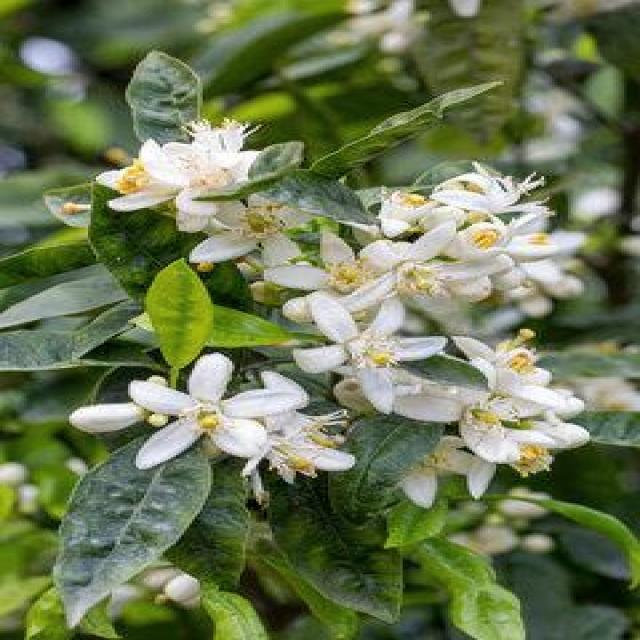Bunga: (128, 350, 283, 464), (290, 308, 440, 402), (389, 377, 542, 459), (189, 185, 312, 274), (266, 228, 389, 304), (352, 231, 459, 315), (453, 331, 563, 402), (90, 137, 182, 217), (427, 167, 552, 222), (384, 436, 482, 504), (152, 122, 256, 182), (235, 422, 342, 478), (488, 425, 568, 480), (354, 188, 434, 240), (451, 218, 528, 270), (62, 402, 150, 436)
